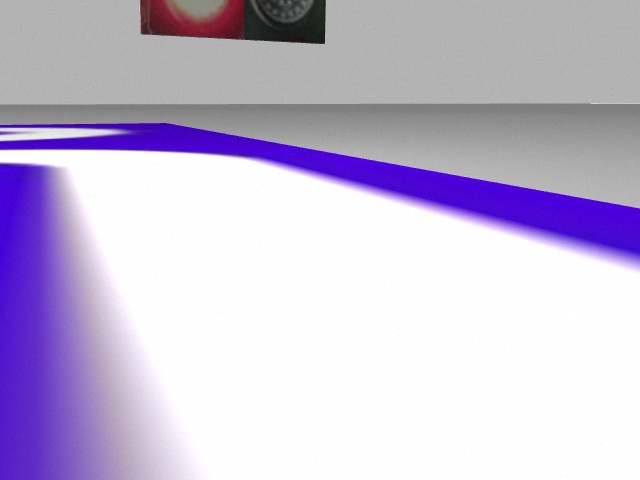red: (141, 1, 243, 40)
